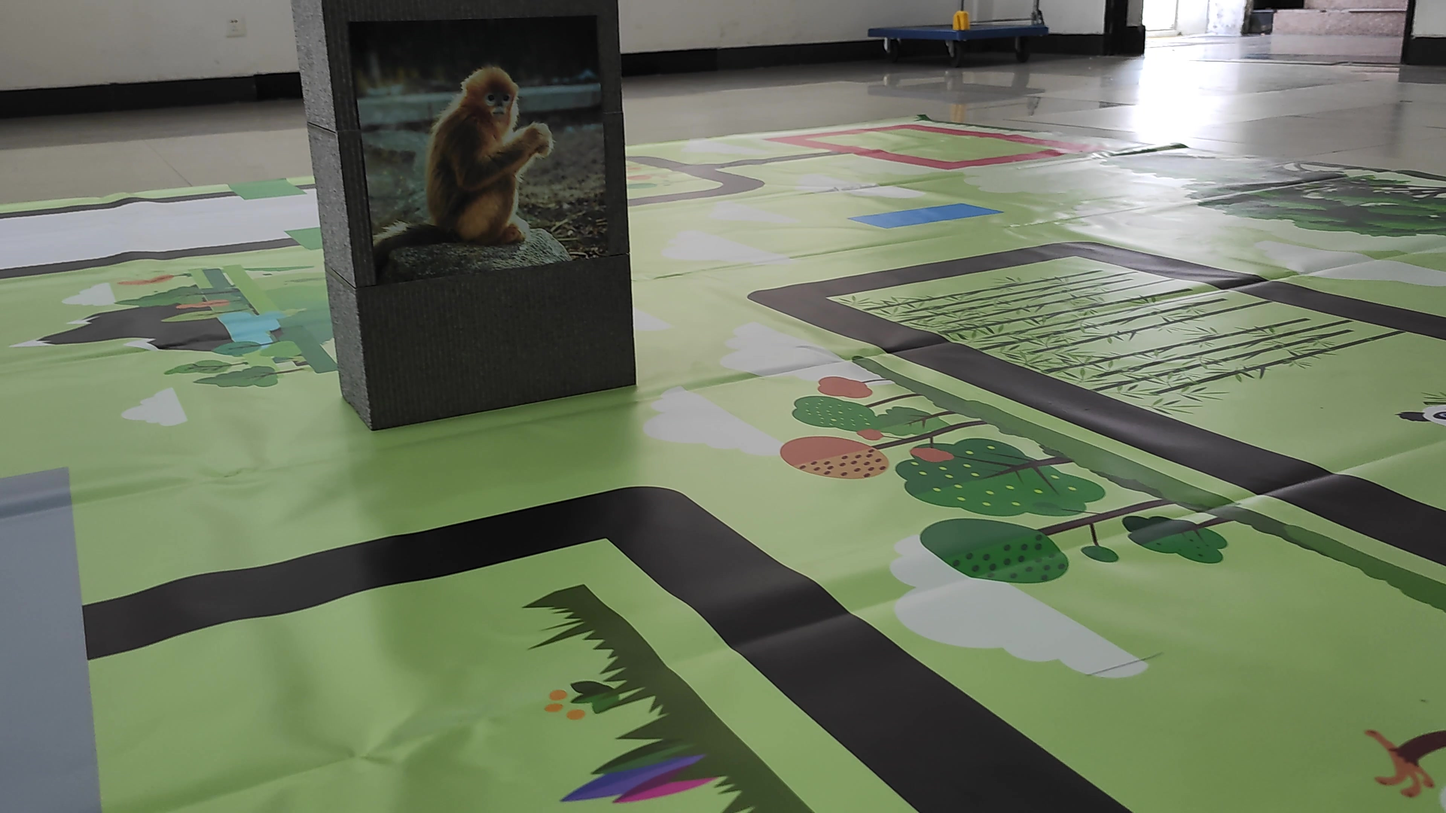monkey: (363, 64, 586, 276)
